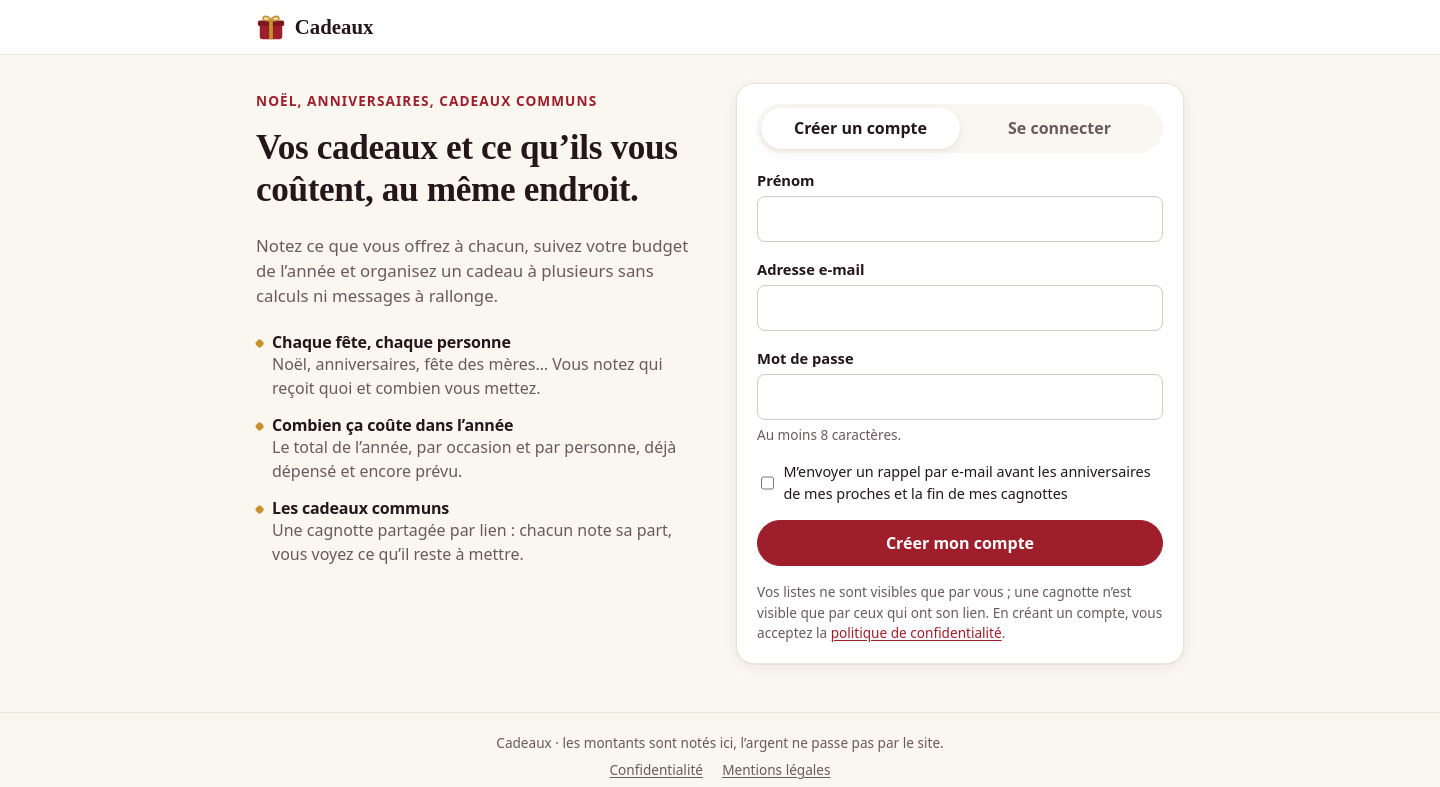
Scenario: compte › un visiteur crée son compte et arrive sur son accueil
This screenshot has width=1440, height=787.
In the field labelled "Prénom": (960, 219) x1=757 y1=196 x2=1163 y2=242, type "Baptiste"
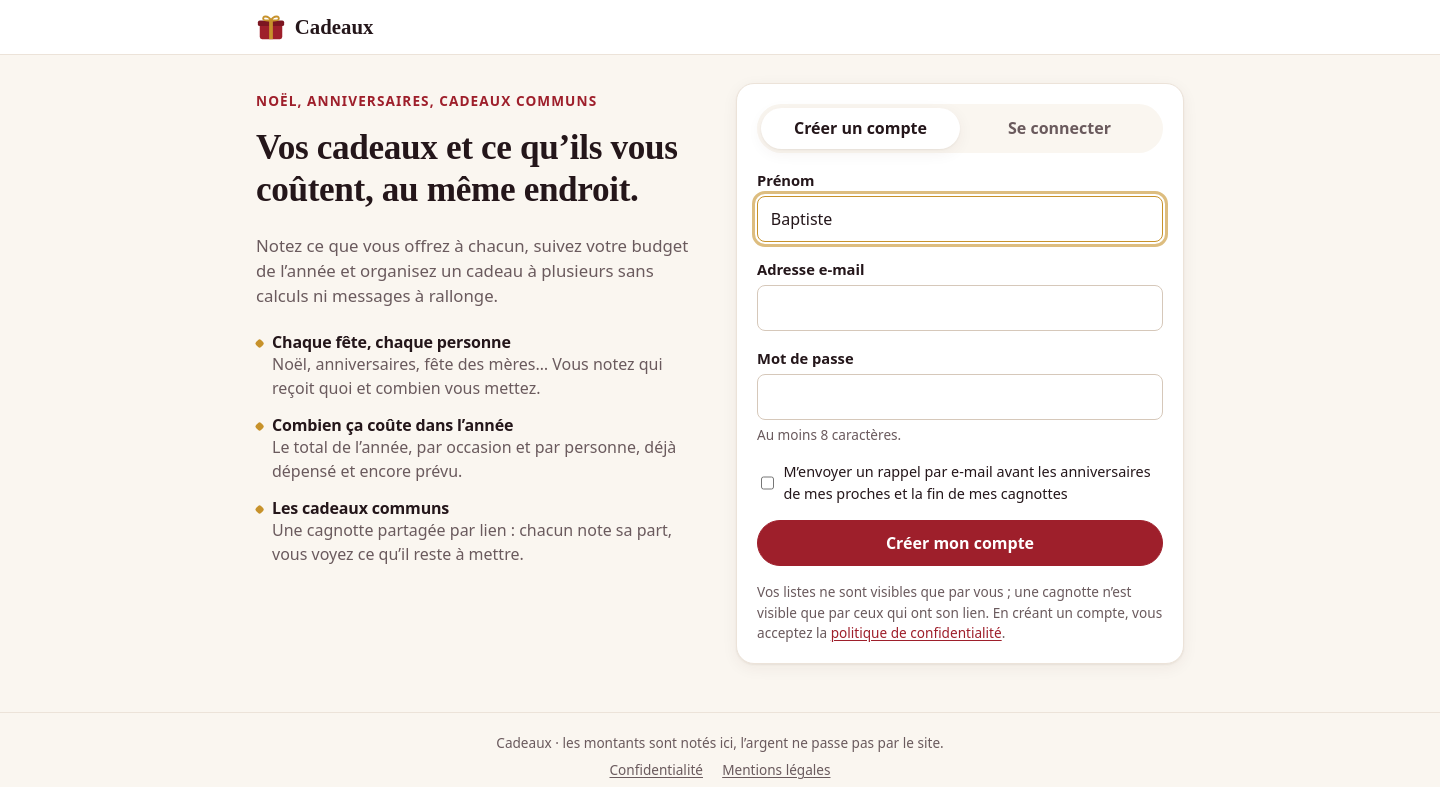
In the field labelled "Adresse e-mail": (960, 308) x1=757 y1=285 x2=1163 y2=331, type "baptiste@example.com"
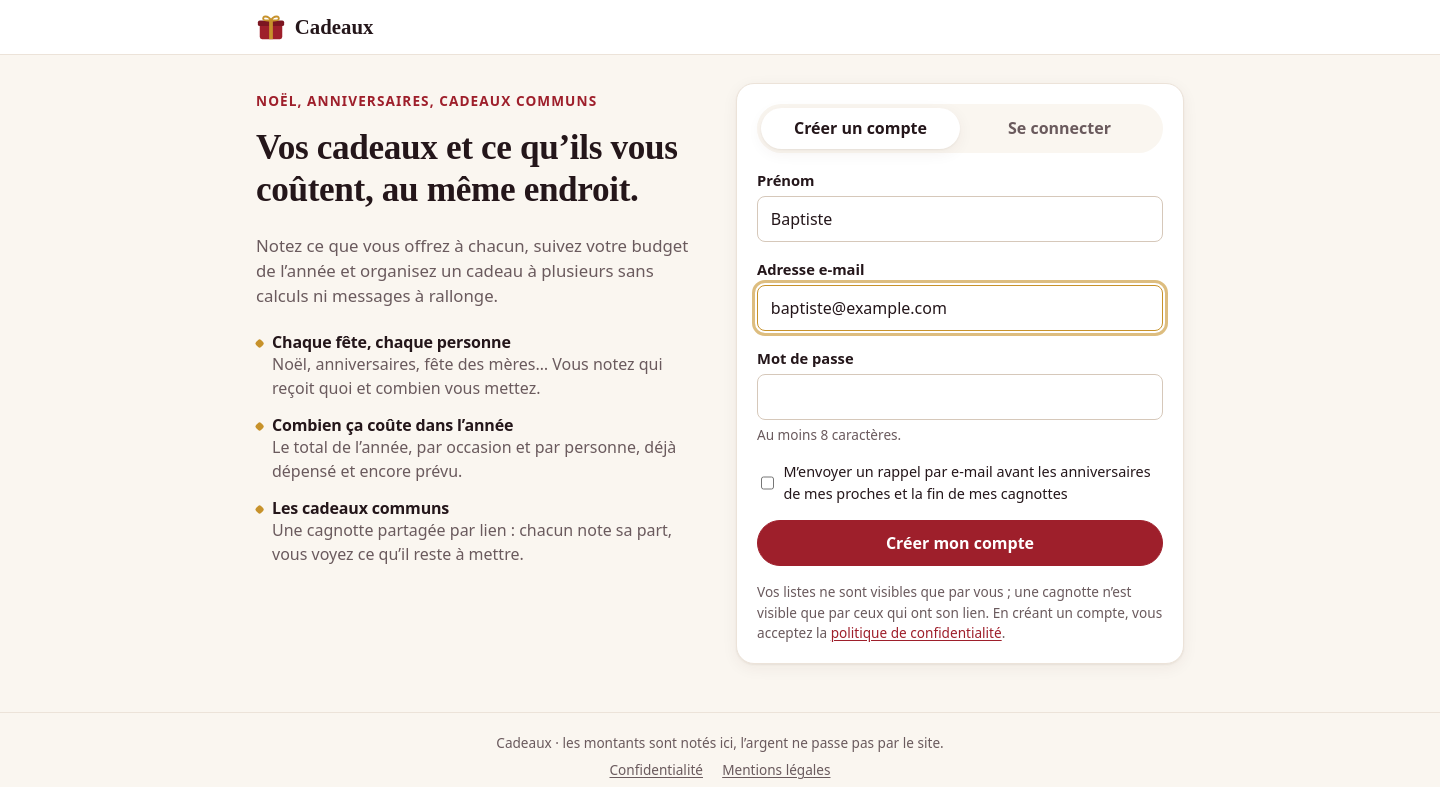
In the password field labelled "Mot de passe": (960, 397) x1=757 y1=374 x2=1163 y2=420, type "motdepasse123"
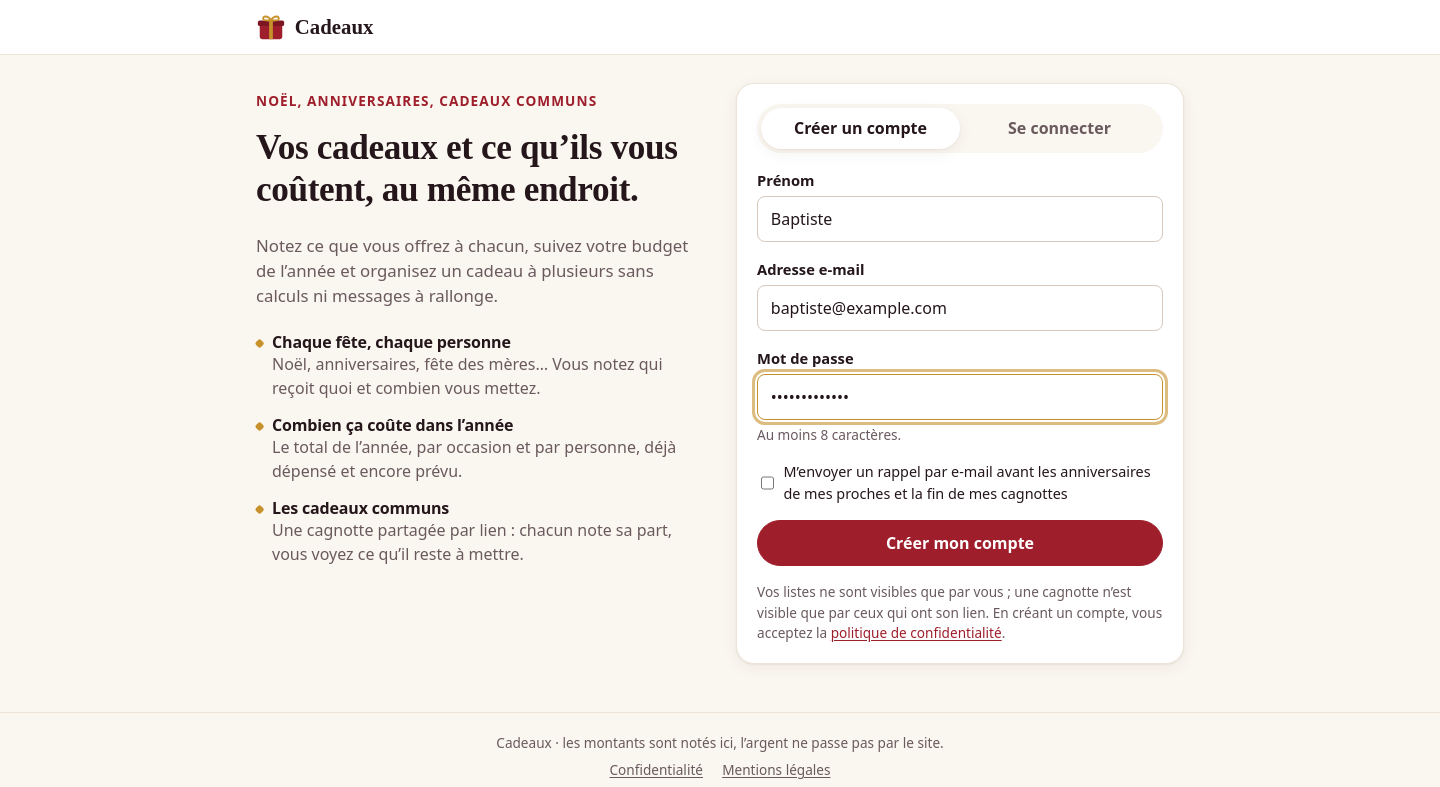
Click the button "Créer mon compte": (960, 543) x1=757 y1=520 x2=1163 y2=566
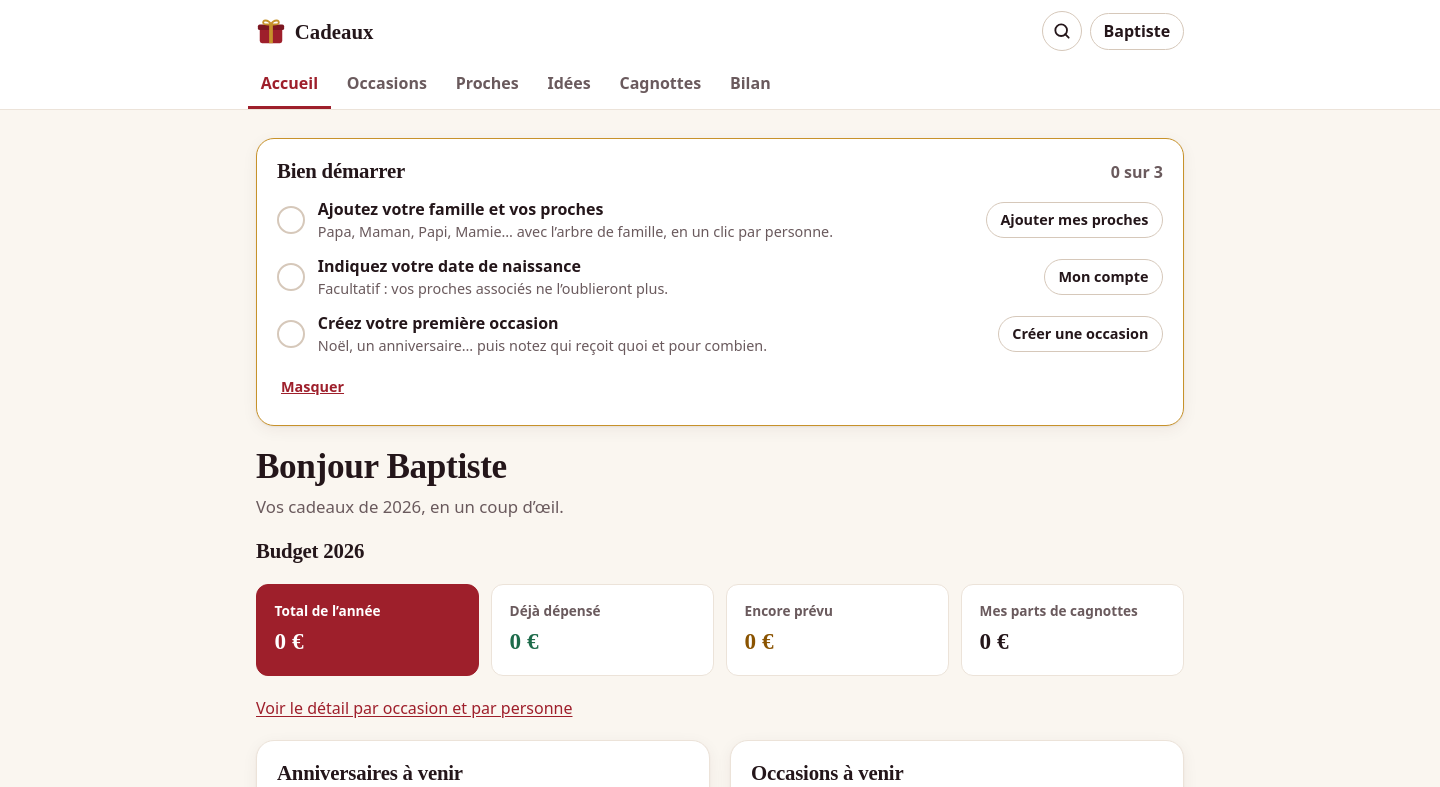
Check: the heading "Bonjour Baptiste" is shown, box x1=256 y1=447 x2=507 y2=486
